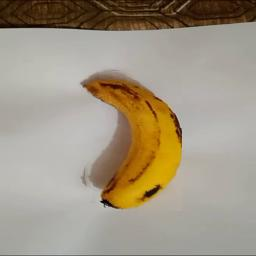Banana Semifresh: (78, 69, 182, 212)
